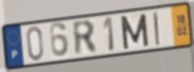0: (25, 25, 45, 63)
1: (102, 15, 115, 55)
6: (49, 21, 70, 62)
I: (152, 11, 161, 48)
M: (119, 12, 151, 51)
R: (71, 20, 100, 58)
